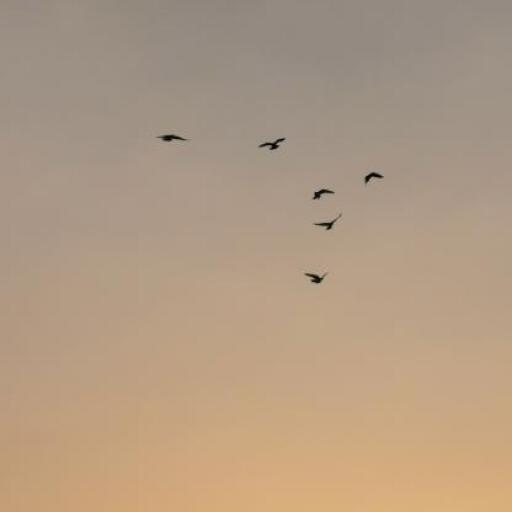bird: (314, 213, 343, 230), (156, 134, 192, 143), (260, 138, 286, 150), (305, 272, 330, 284), (364, 174, 384, 187), (314, 190, 336, 200)
